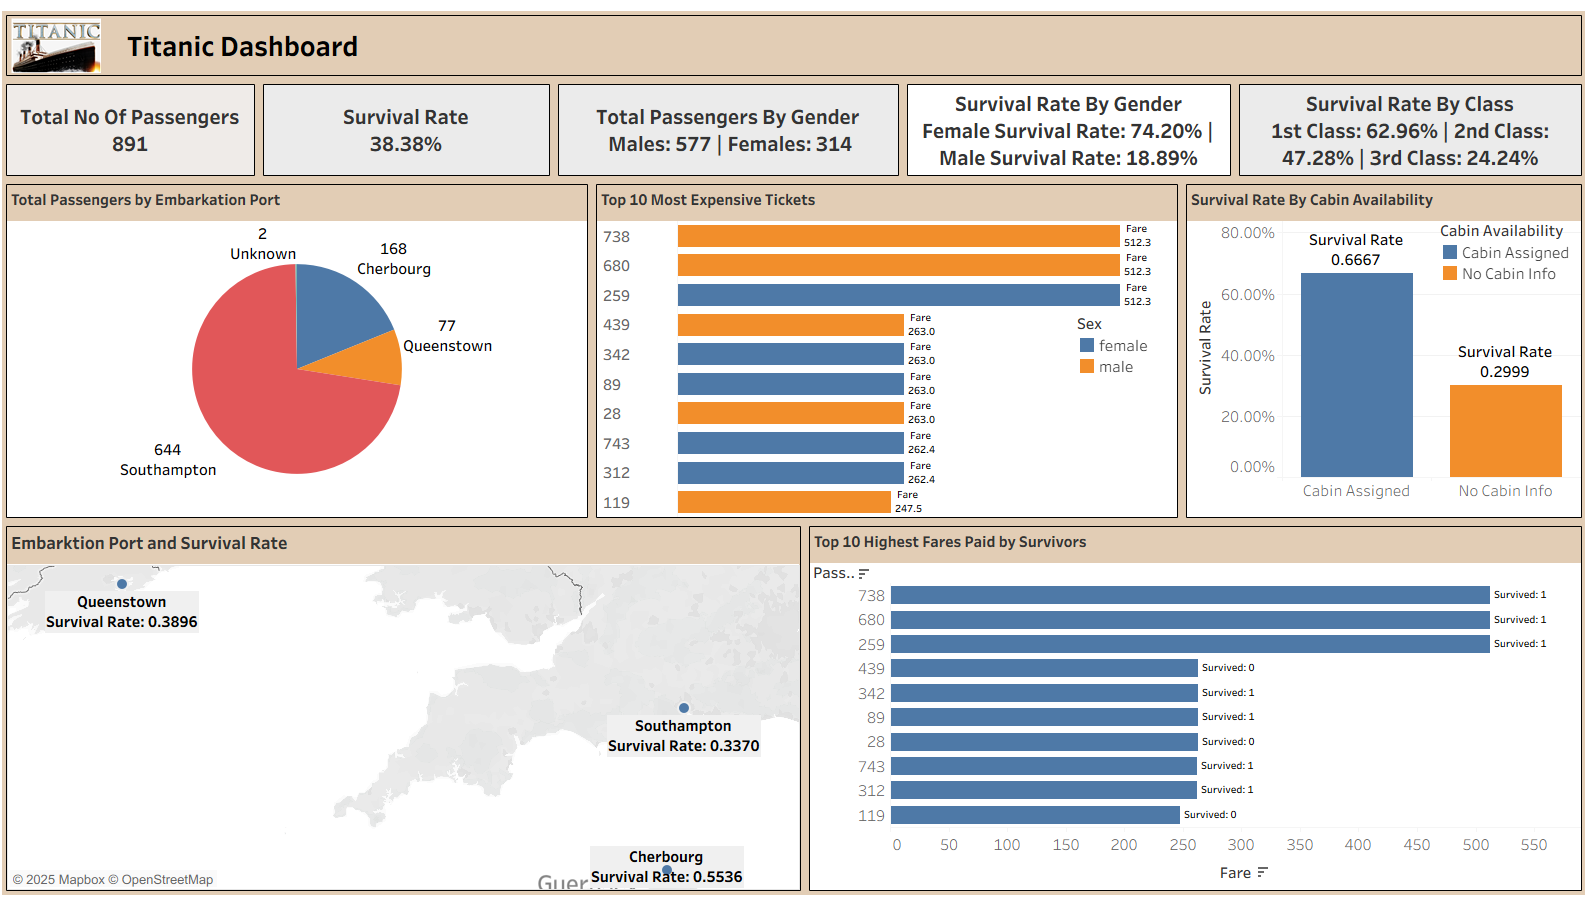

What the dashboard file says about the page in this screenshot:
{"tool":"tableau","page":{"name":"Dashboard 1","canvas":[1600,900],"ordinal":0},"visuals":[{"type":"text","box":[8,8,1584,69]},{"type":"image","param":"E:/Reading/Tableau/Titanic Dashboard/200-2001765_titanic-ship-png-banner-transpa","box":[16,15,93,55]},{"type":"worksheet","title":"Total No Of Passengers","mark":"Automatic","box":[8,77,257,100]},{"type":"worksheet","title":"Survival Rate","mark":"Automatic","box":[265,77,295,100]},{"type":"worksheet","title":"Total Passengers By Gender","mark":"Automatic","box":[560,77,349,100]},{"type":"worksheet","title":"Survival Rate By Gender","mark":"Automatic","box":[909,77,332,100]},{"type":"worksheet","title":"Survival Rate By Class","mark":"Automatic","box":[1241,77,351,100]},{"type":"worksheet","title":"Total Passengers by Embarkation Port","mark":"Pie","box":[8,177,590,342]},{"type":"worksheet","title":"Top 10 Most Expensive Tickets","mark":"Automatic","rows":["PassengerId"],"cols":["Fare"],"box":[598,177,590,341.9]},{"type":"worksheet","title":"Survival Rate By Cabin Availability","mark":"Automatic","rows":["Calculation_1161647262295666689"],"cols":["Calculation_1161647262310539273"],"box":[1188,177,404,342]},{"type":"legend","title":"Survival Rate By Cabin Availability","param":"[federated.0htpmp01kxhqpd1fi9g8e01abtrp].[none:Calculation_1161647262310539273:n","box":[1446,217,140,64]},{"type":"legend","title":"Top 10 Most Expensive Tickets","param":"[federated.0htpmp01kxhqpd1fi9g8e01abtrp].[none:Sex:nk]","box":[1083,310,93,68]},{"type":"worksheet","title":"Embarktion Port and Survival Rate","mark":"Automatic","box":[8,519,803,373]},{"type":"worksheet","title":"Top 10 Highest Fares Paid by Survivors","mark":"Automatic","rows":["PassengerId"],"cols":["Fare"],"box":[811,519,781,373]}]}

Visuals, with their boxes in screenshot pixels (x1, y1, x2, y2), scaled from the page's 1600x900 canvas onto the 1585x897 screenshot:
text: detection(8, 8, 1577, 77)
image: detection(16, 15, 108, 70)
"Total No Of Passengers" worksheet: detection(8, 77, 263, 176)
"Survival Rate" worksheet: detection(263, 77, 555, 176)
"Total Passengers By Gender" worksheet: detection(555, 77, 900, 176)
"Survival Rate By Gender" worksheet: detection(900, 77, 1229, 176)
"Survival Rate By Class" worksheet: detection(1229, 77, 1577, 176)
"Total Passengers by Embarkation Port" worksheet (Pie marks): detection(8, 176, 592, 517)
"Top 10 Most Expensive Tickets" worksheet: detection(592, 176, 1177, 517)
"Survival Rate By Cabin Availability" worksheet: detection(1177, 176, 1577, 517)
"Survival Rate By Cabin Availability" legend: detection(1432, 216, 1571, 280)
"Top 10 Most Expensive Tickets" legend: detection(1073, 309, 1165, 377)
"Embarktion Port and Survival Rate" worksheet: detection(8, 517, 803, 889)
"Top 10 Highest Fares Paid by Survivors" worksheet: detection(803, 517, 1577, 889)
